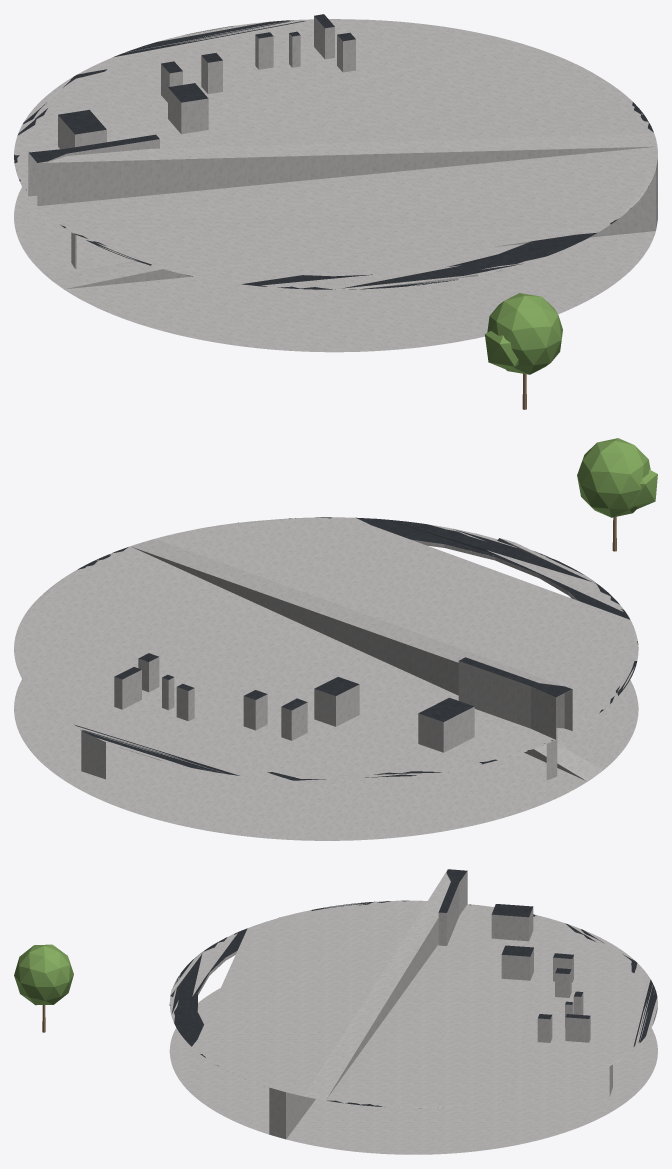
3 views of the same model, one above another, from view 1: azimuth 30°, elevation 25°; view 2: azimuth 150°, elevation 25°; view 3: azimuth 270°, elevation 25° (orthographic). The views are drawn at different scales.
Parts seen in each view (by area): view 1: bldg_6000072655, bldg_6000072655_roof, tree_6049; view 2: bldg_6000072655, bldg_6000072655_roof, tree_6049; view 3: bldg_6000072655, bldg_6000072655_roof, tree_6049.
Part boxes in pixels (<box>): bldg_6000072655: <box>14,16,657,352</box>; bldg_6000072655_roof: <box>14,14,653,289</box>; tree_6049: <box>484,293,562,409</box>; bldg_6000072655: <box>14,517,638,840</box>; bldg_6000072655_roof: <box>74,517,638,780</box>; tree_6049: <box>577,438,657,551</box>; bldg_6000072655: <box>169,869,657,1154</box>; bldg_6000072655_roof: <box>169,869,657,1106</box>; tree_6049: <box>14,944,73,1032</box>.
Bounding box in the file's own units: 60.83 × 11.78 × 79.93.
Materials: 3 (2 with a texture image).
